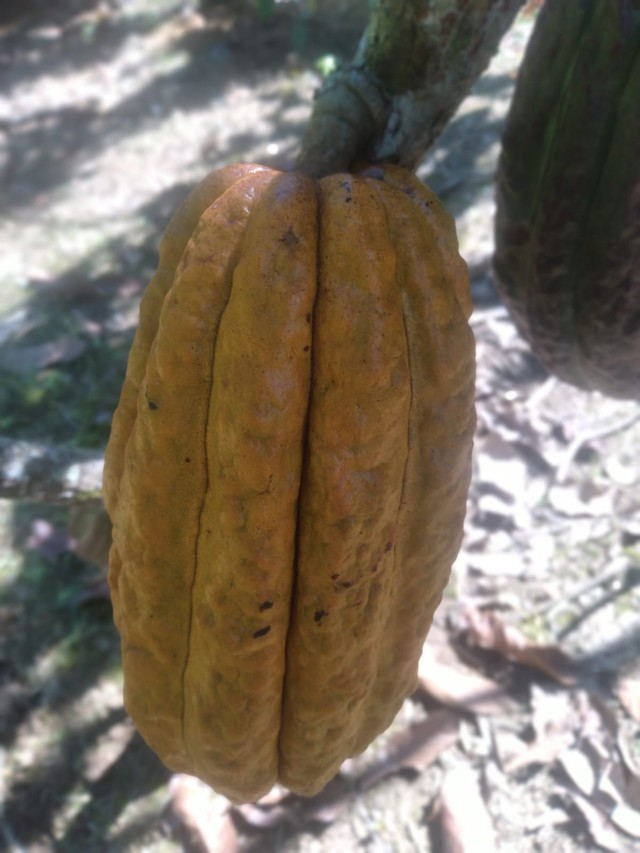Health: (86, 127, 490, 819)
